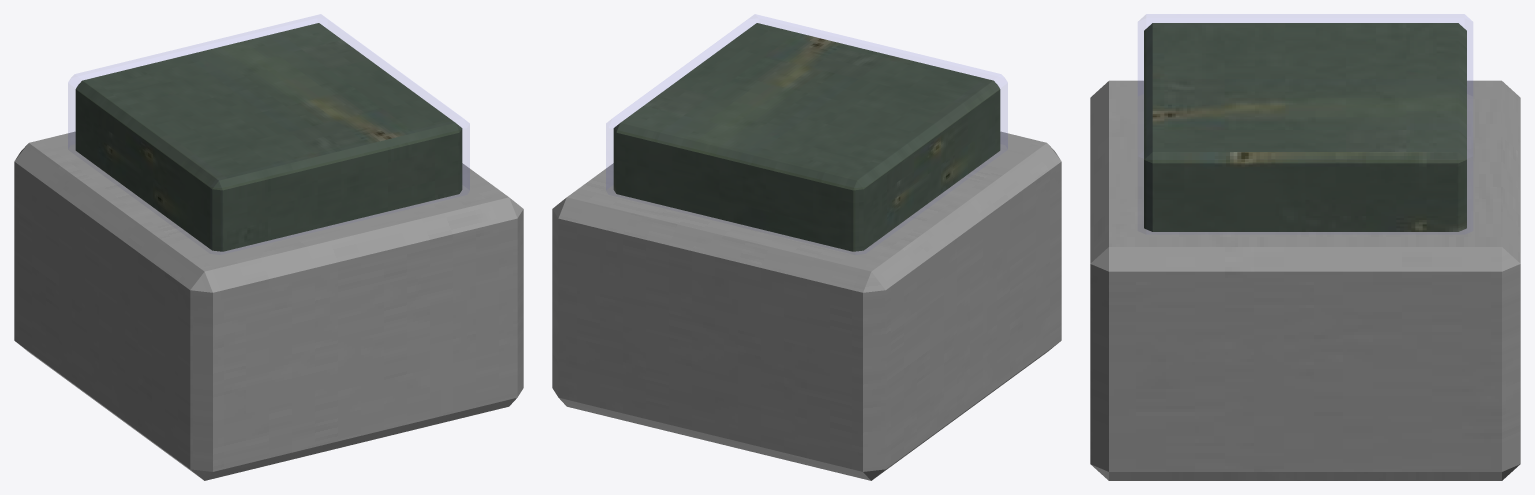
The model's file is button.glb.
3 renders of one model, left to right at view 1: azimuth 30°, elevation 25°; view 2: azimuth 150°, elevation 25°; view 3: azimuth 270°, elevation 25°, orthographic. The views are drawn at different scales.
Visible parts, largest first — view 1: ButtonBase, Button; view 2: ButtonBase, Button; view 3: ButtonBase, Button.
Part boxes in pixels (box(x1,y1,x2,y2)): ButtonBase: box(14, 131, 523, 480); Button: box(68, 14, 469, 251); ButtonBase: box(552, 131, 1061, 480); Button: box(606, 14, 1007, 251); ButtonBase: box(1090, 80, 1520, 480); Button: box(1138, 14, 1472, 231).
Size of the model in its own units: 0.3 by 0.2435 by 0.3.
3 materials, 3 textured.
